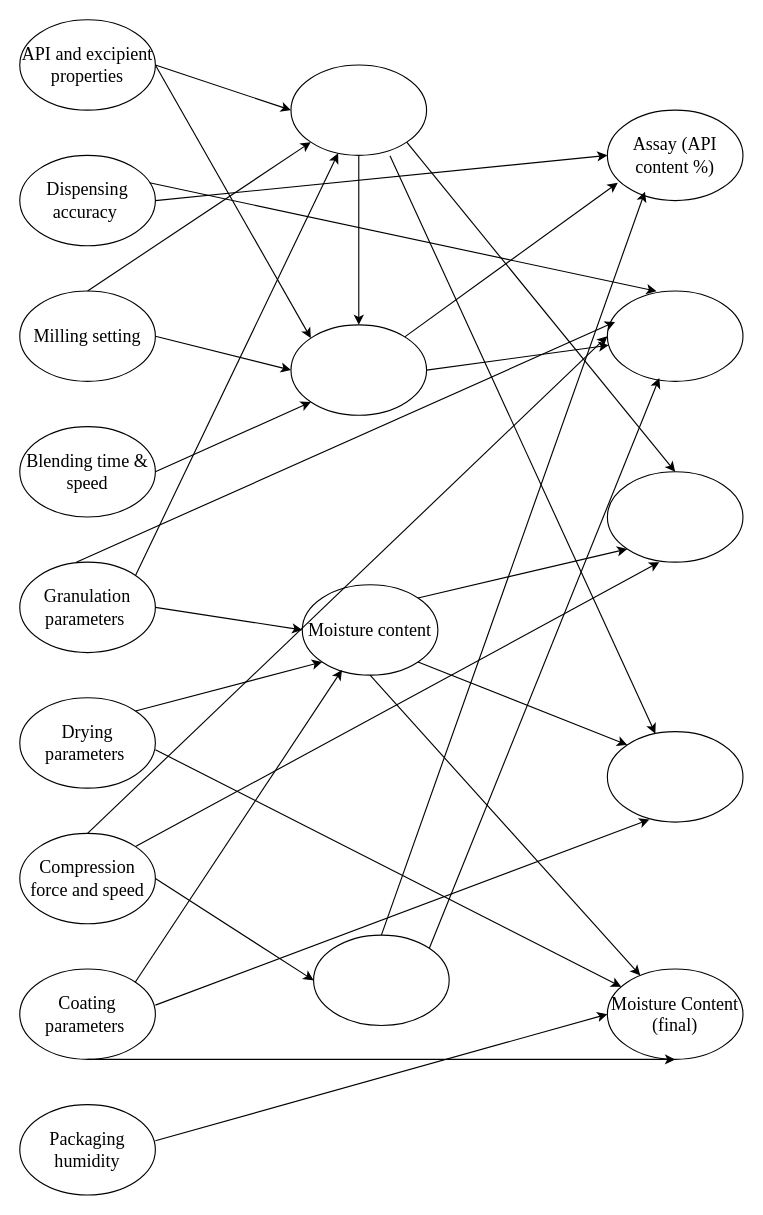
Some shapes in this 763 by 1215 pixel diagram are drawn without their labels. Here are the shapes that lost their labels. From the top down, the box of each, then its label:
(290, 64, 427, 155): Granule size
(606, 290, 743, 381): Content Uniformity
(290, 324, 427, 415): Blend uniformity
(606, 471, 743, 562): Hardness
(606, 731, 743, 822): Dissolution
(312, 934, 449, 1025): Tablet weight variation
